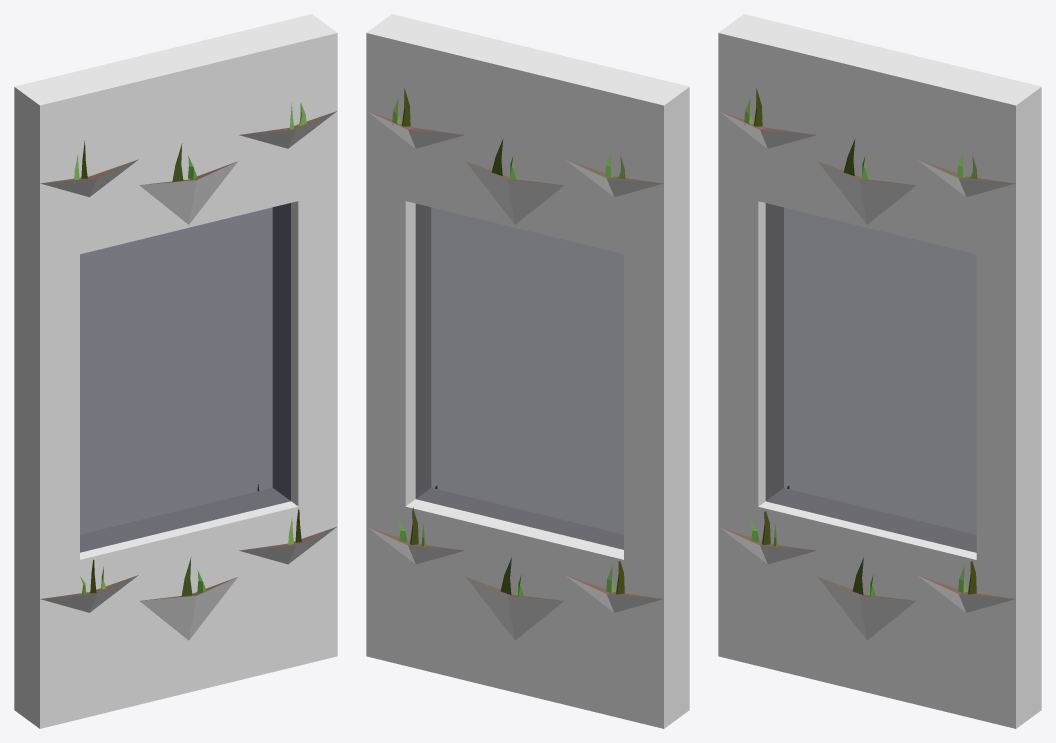
The model's file is PlantWindow.glb.
3 views of the same model, side by side, from view 1: azimuth 30°, elevation 25°; view 2: azimuth 150°, elevation 25°; view 3: azimuth 330°, elevation 25° (orthographic).
Visible parts, largest first — view 1: wall_plant_window; view 2: wall_plant_window; view 3: wall_plant_window.
Boxes of the visible parts, bbox=[...] form: wall_plant_window: bbox=[14, 14, 337, 728]; wall_plant_window: bbox=[366, 14, 689, 728]; wall_plant_window: bbox=[718, 14, 1041, 728].
Size of what is drawn, in the model's own units: 2 by 4 by 0.4811.
2 materials, 2 textured.
